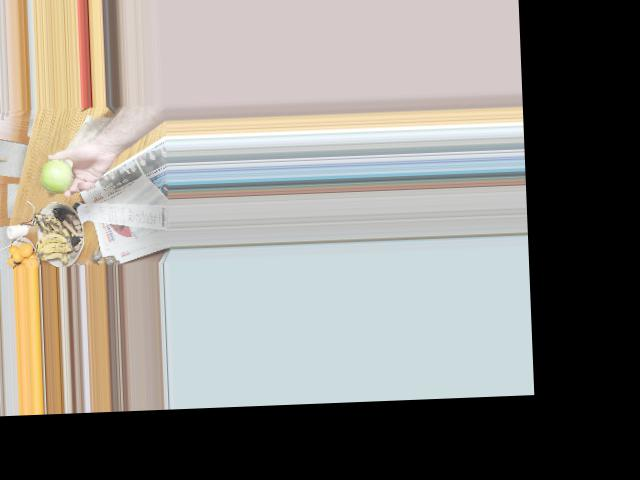apple: (37, 160, 73, 194)
